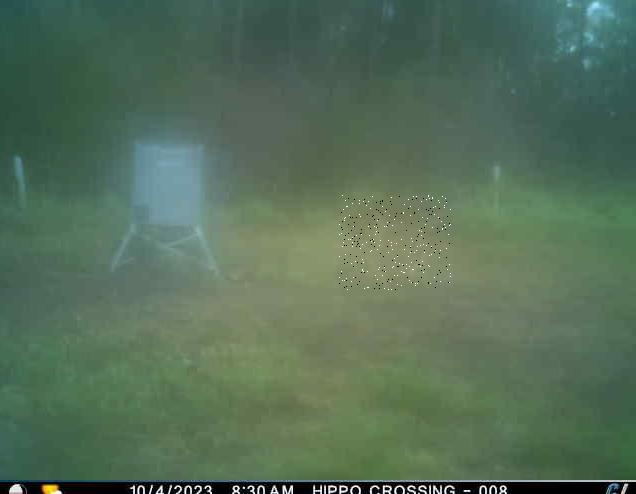Deer: (339, 195, 451, 290)
